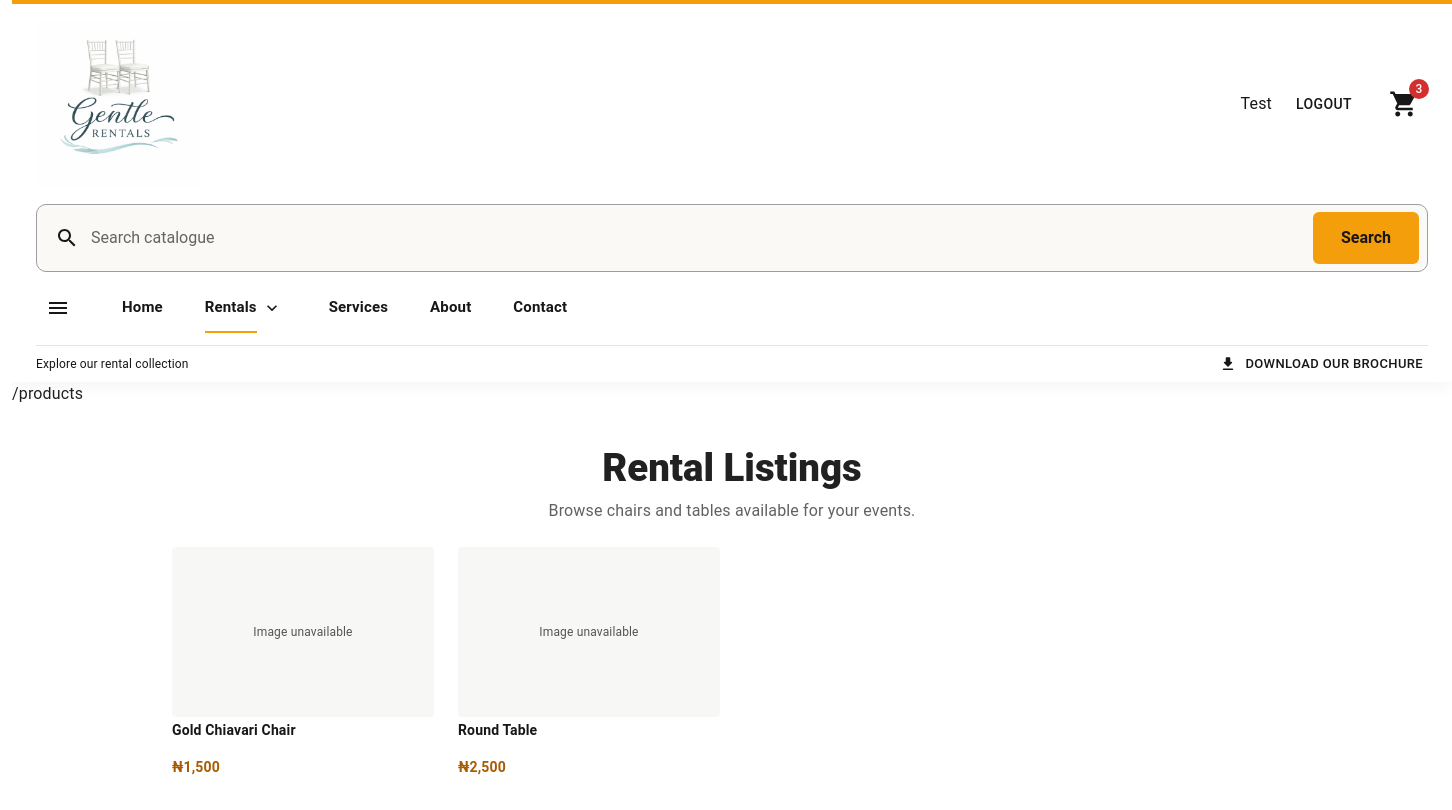
Scenario: failed brochure fetch shows an error instead of downloading an empty catalogue
Expected: the heading "Gold Chiavari Chair" is shown, [172,722,296,738]
Click the button "Download Our Brochure" at (1322, 364), box [1216,348,1428,379]
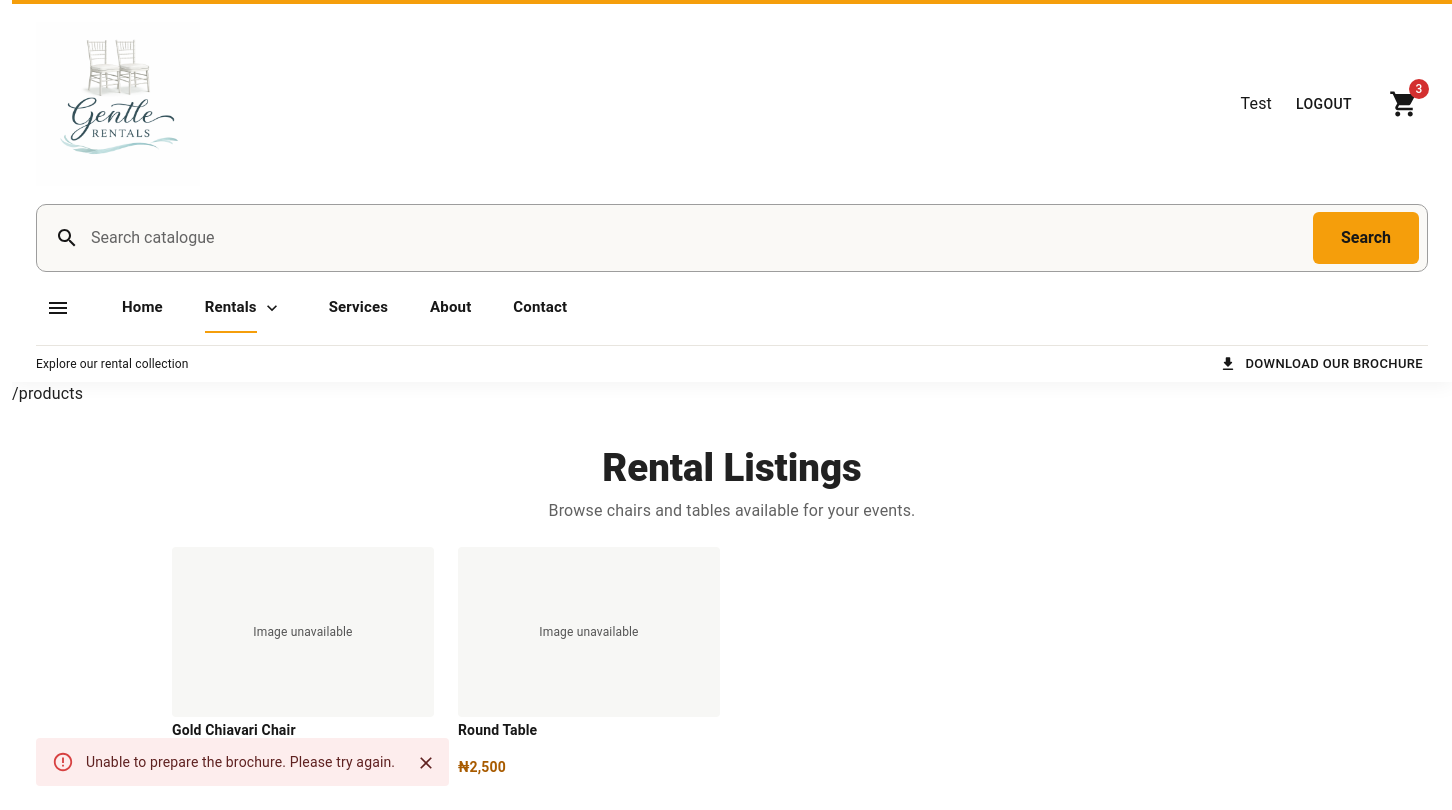
Expected: the message shows "Unable to prepare the brochure", [86,754,395,770]
